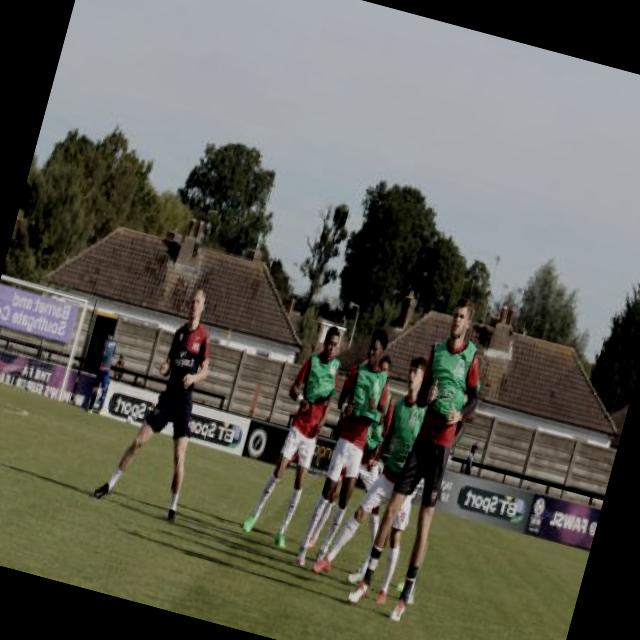Person: (229, 256, 506, 626), (88, 273, 236, 526), (79, 320, 125, 420), (461, 438, 483, 477), (110, 346, 130, 380)
